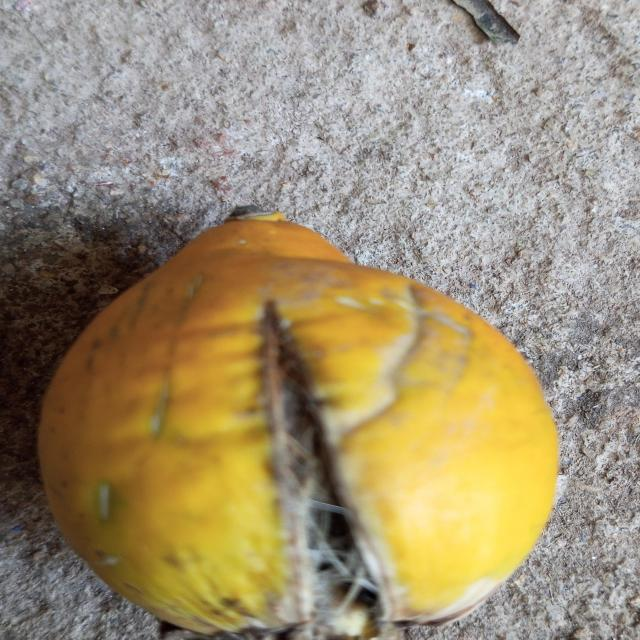damaged: (39, 205, 557, 640)
